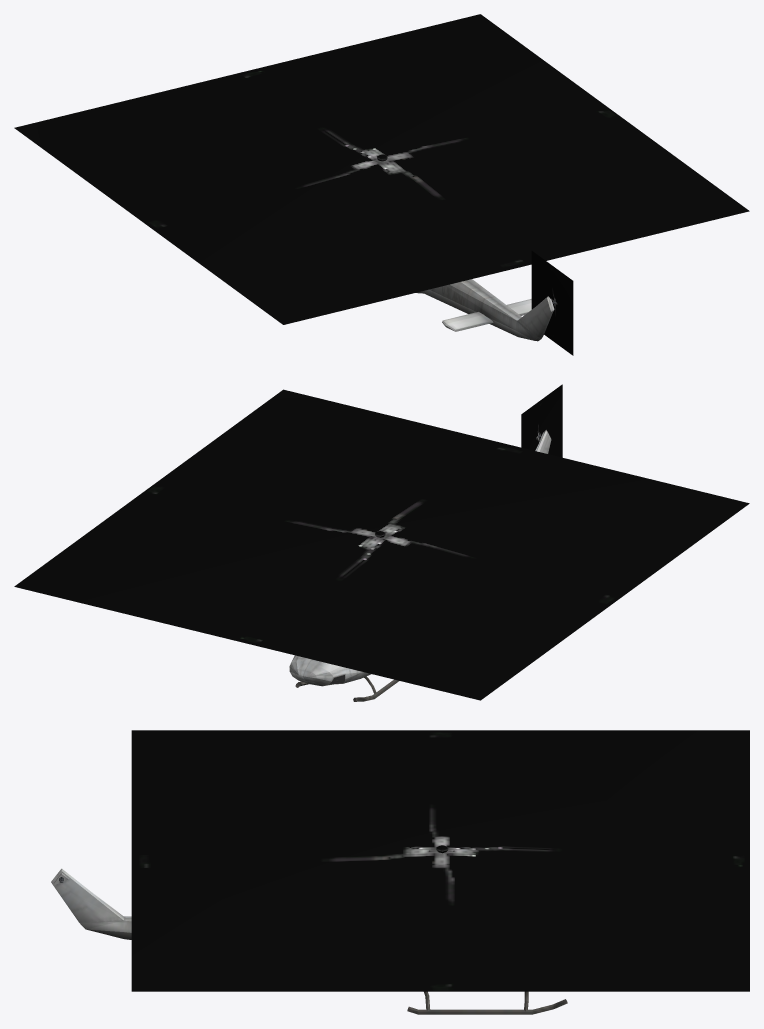
3 renders of one model, top to bottom at view 1: azimuth 30°, elevation 25°; view 2: azimuth 150°, elevation 25°; view 3: azimuth 270°, elevation 25°, orthographic. The views are drawn at different scales.
Visible parts, largest first — view 1: rotor_blade, hull, rotor_blade_rear; view 2: rotor_blade, hull, rotor_blade_rear; view 3: rotor_blade, hull.
Part boxes in pixels (x1=…): rotor_blade: x1=14, y1=14, x2=749, y2=324; hull: x1=377, y1=154, x2=556, y2=341; rotor_blade_rear: x1=531, y1=251, x2=573, y2=355; rotor_blade: x1=14, y1=389, x2=749, y2=700; hull: x1=289, y1=430, x2=551, y2=701; rotor_blade_rear: x1=521, y1=384, x2=562, y2=457; rotor_blade: x1=131, y1=730, x2=749, y2=991; hull: x1=51, y1=845, x2=567, y2=1014.
Bounding box in the file's own units: 16.2 × 4.69 × 19.28.
Materials: 3 (3 with a texture image).
